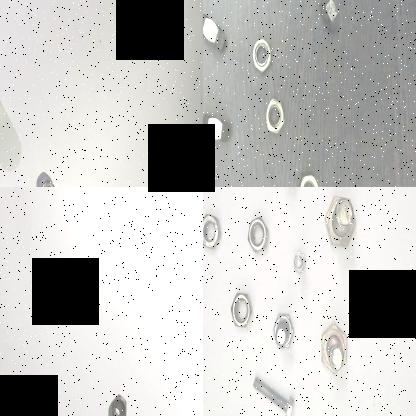Bolts: (321, 187, 363, 253), (314, 316, 352, 382), (249, 369, 295, 416), (270, 300, 298, 356), (290, 242, 310, 276)
NUTS: (226, 282, 252, 330), (247, 32, 274, 78), (244, 209, 268, 258), (203, 109, 231, 146), (203, 205, 224, 253), (203, 10, 227, 51), (262, 96, 284, 138), (317, 0, 341, 29), (108, 390, 128, 416), (296, 168, 320, 187), (38, 175, 55, 187)
